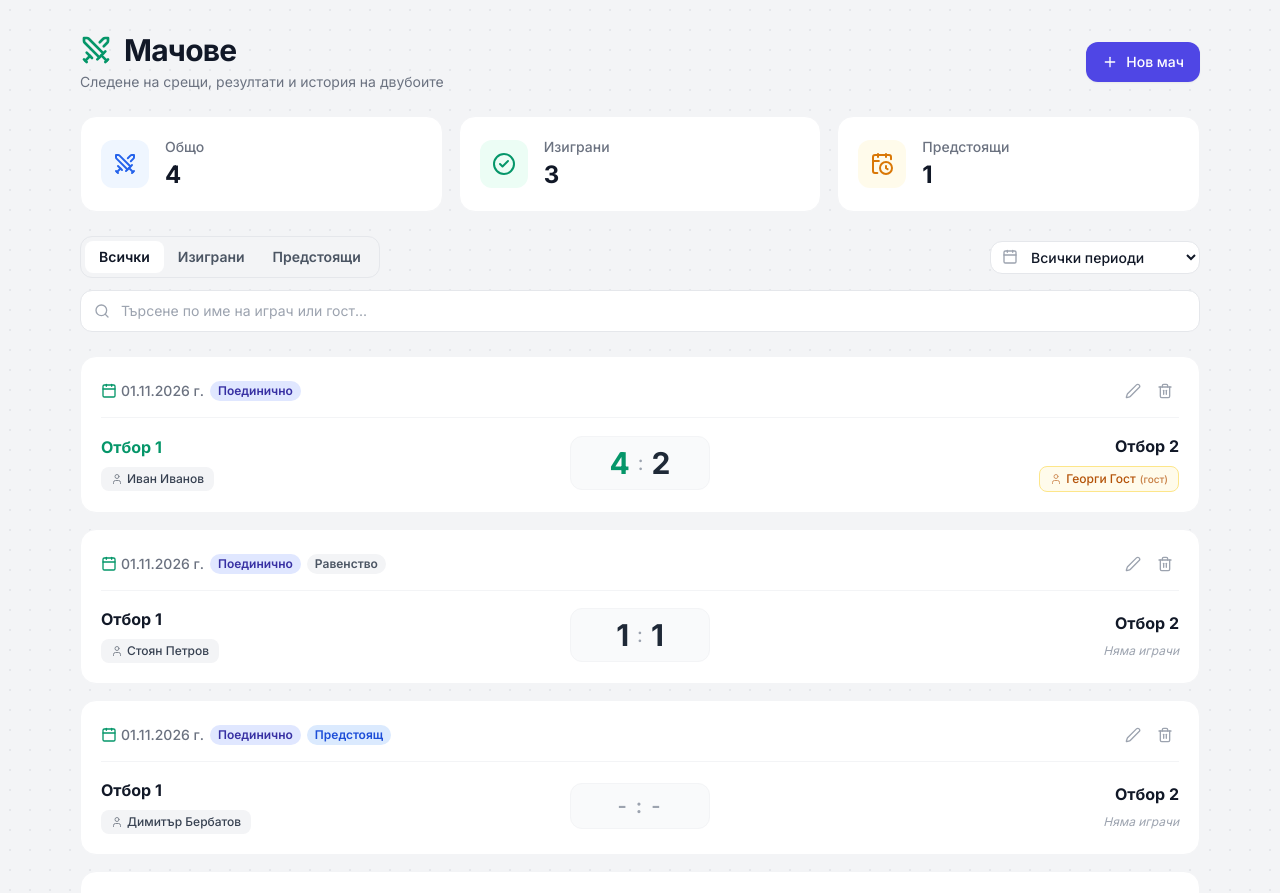
Test case: MatchesPage Integration Tests › filters matches by custom date range period from calendar and renders 2-column responsive grid
Select "Посочи период..." in the dropdown named "Филтър по период" at (1095, 257), box [990,240,1200,274]
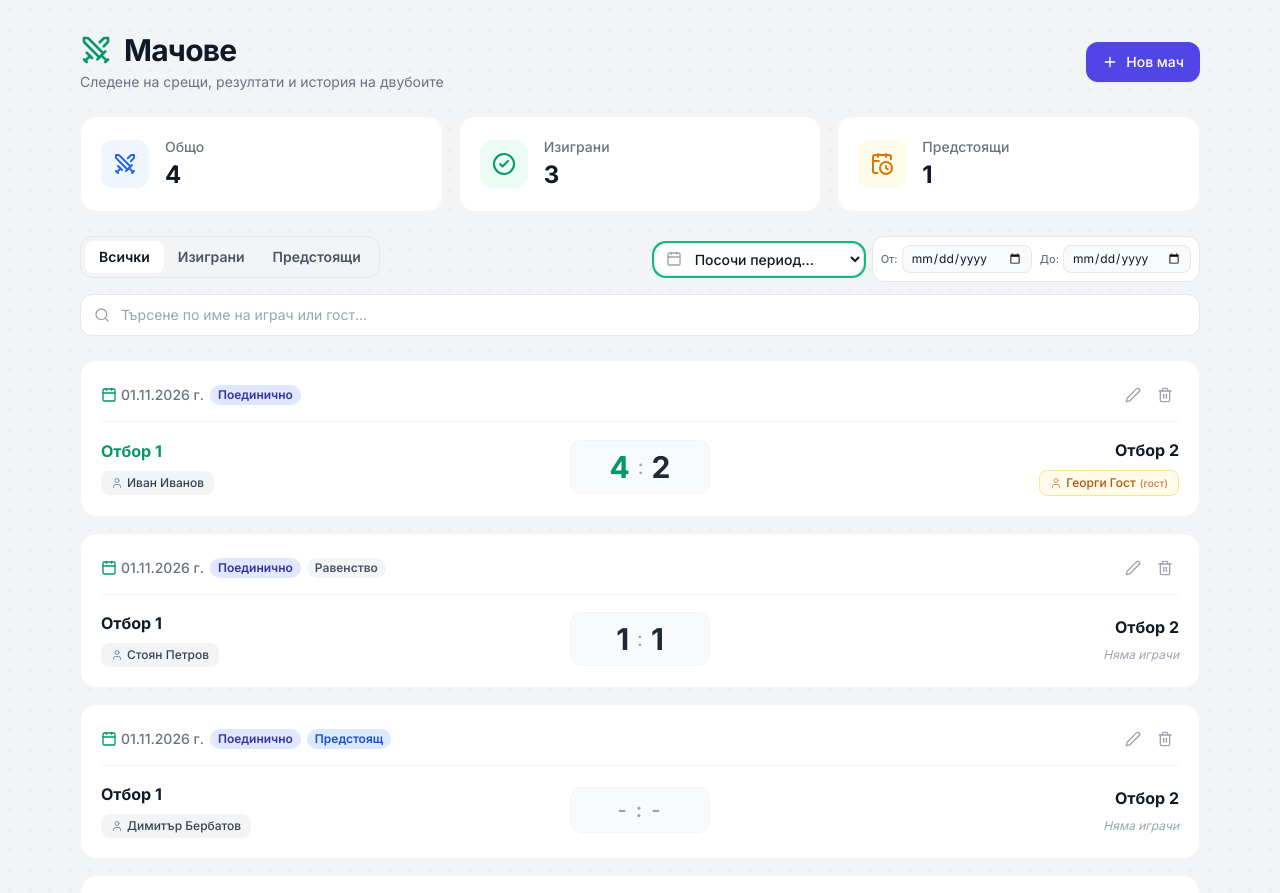
Check: the date field named "Начална дата" is shown
Check: the date field named "Крайна дата" is shown, box [1063,245,1191,273]
Check: the element named "Начална дата" is shown, box [872,236,1200,282]
// Set custom range targeting the 2025 match
Type "2025-01-01" into the date field named "Начална дата".
click(967, 259); type("2025-01-01")  # box [902,245,1032,273]
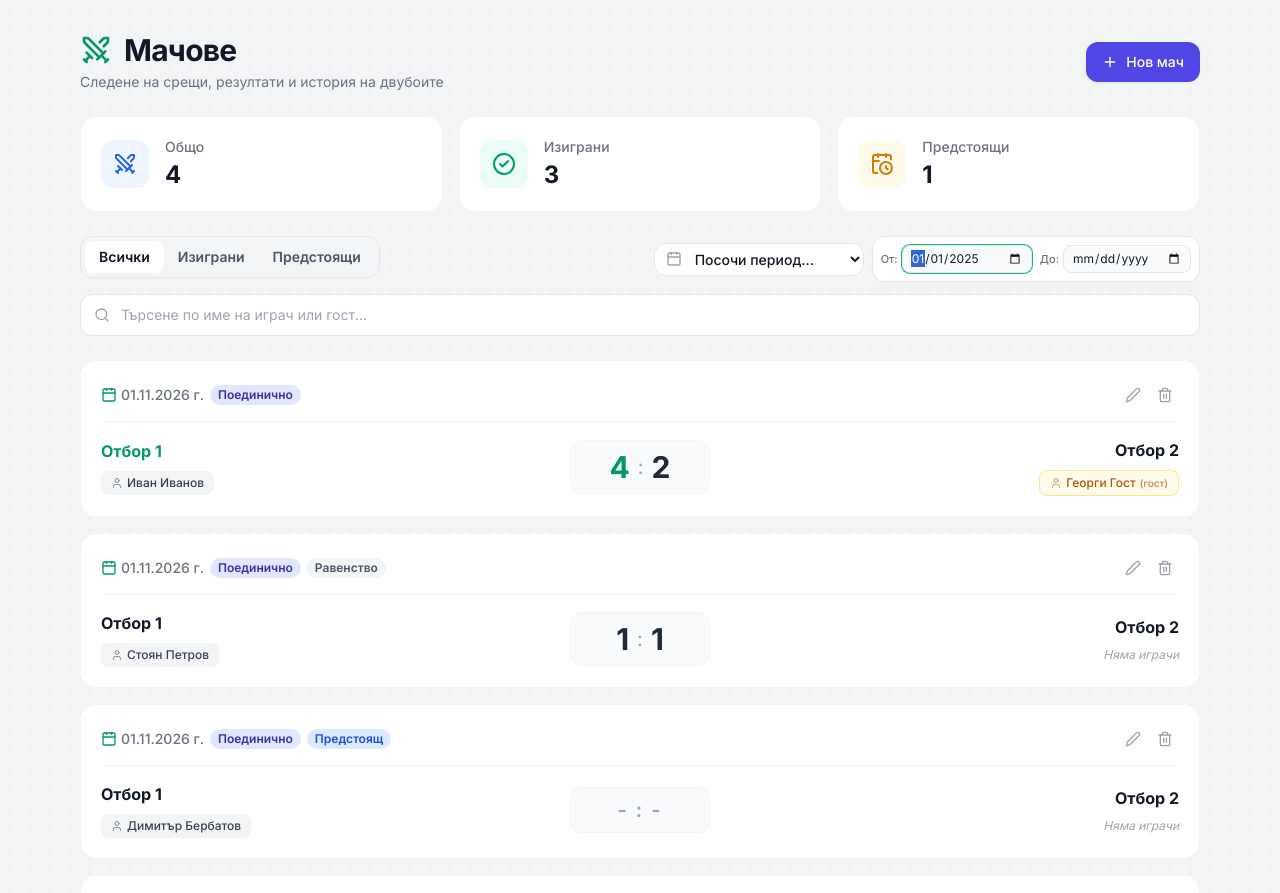
Type "2025-12-31" into the date field named "Крайна дата".
click(1127, 259); type("2025-12-31")  # box [1063,245,1191,273]
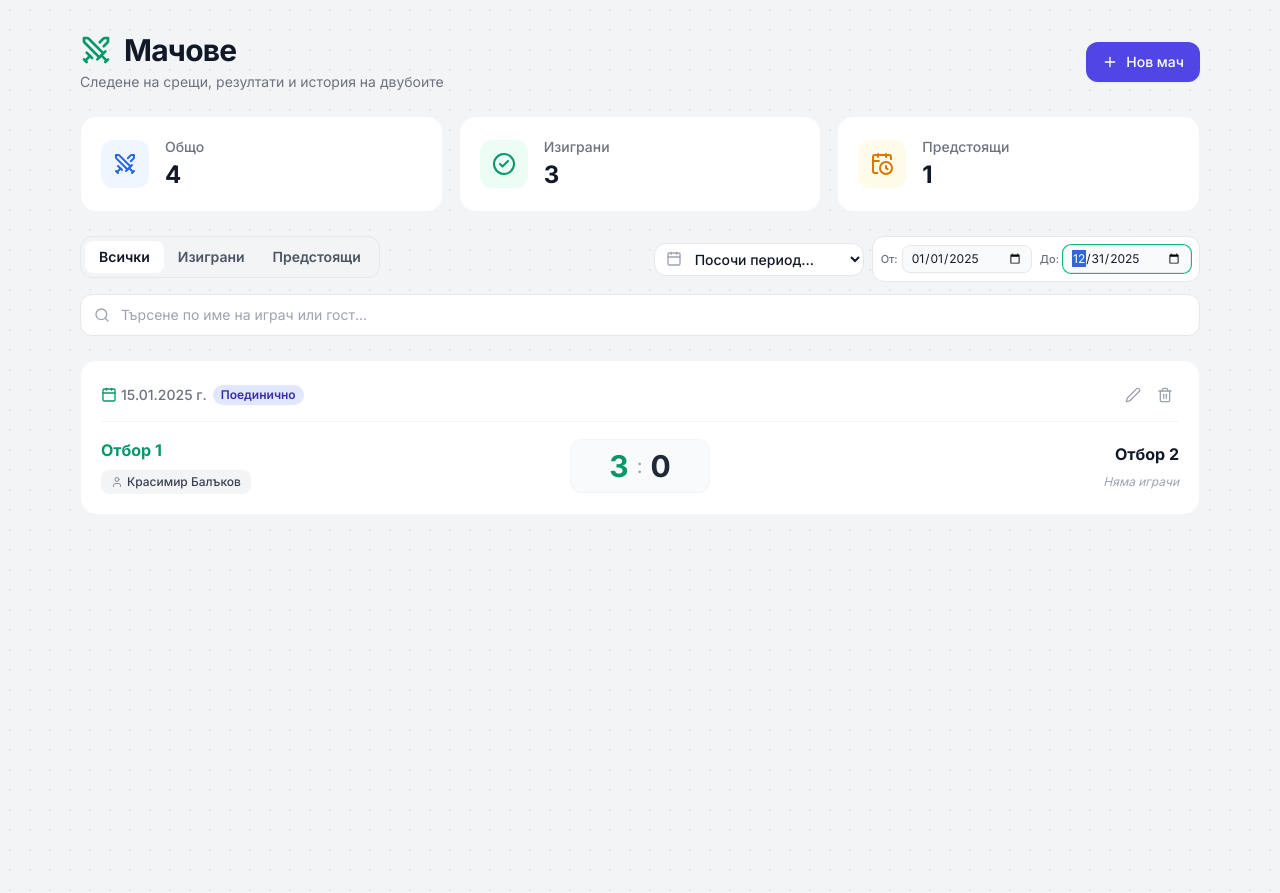
Check: the text "Красимир Балъков" is shown, box [127,474,241,490]
Check: the text "Иван Иванов" is gone
